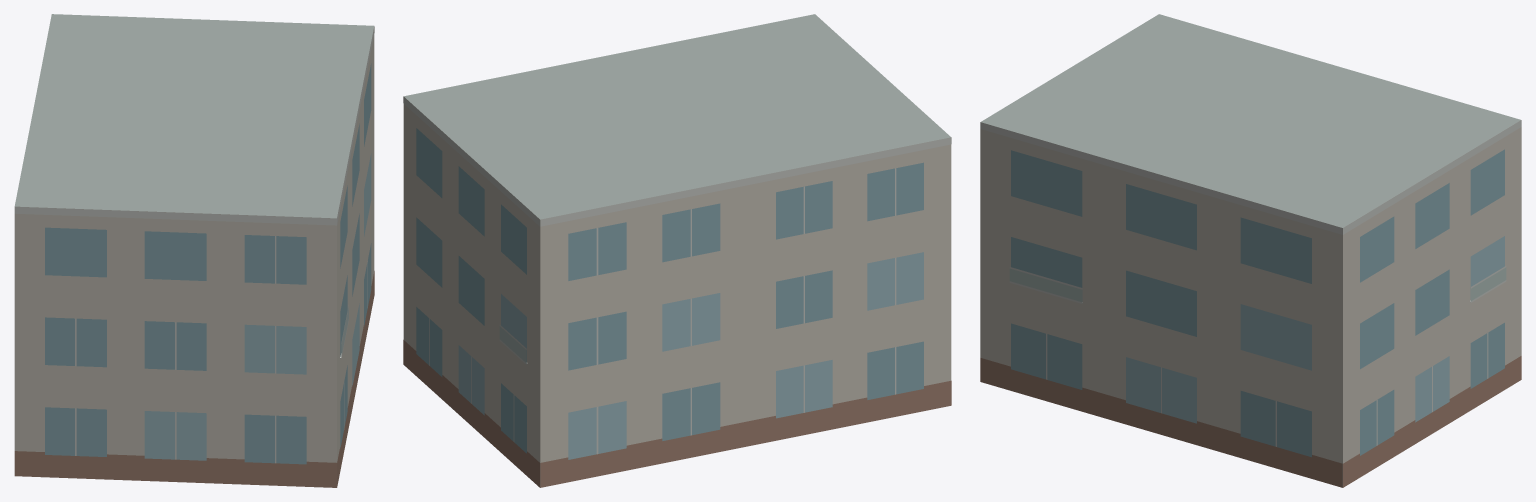
File: survey-upis-32997733.glb
3 renders of one model, left to right at view 1: azimuth 30°, elevation 25°; view 2: azimuth 150°, elevation 25°; view 3: azimuth 270°, elevation 25°, orthographic. The views are drawn at different scales.
Parts seen in each view (by area): view 1: survey-upis-32997733.tmp; view 2: survey-upis-32997733.tmp; view 3: survey-upis-32997733.tmp.
Boxes of the visible parts, x1,y1,x2,y2 form: survey-upis-32997733.tmp: [14, 14, 374, 487]; survey-upis-32997733.tmp: [403, 14, 951, 487]; survey-upis-32997733.tmp: [980, 14, 1521, 487].
Size of the model in its own units: 16.18 by 9.15 by 17.28.
